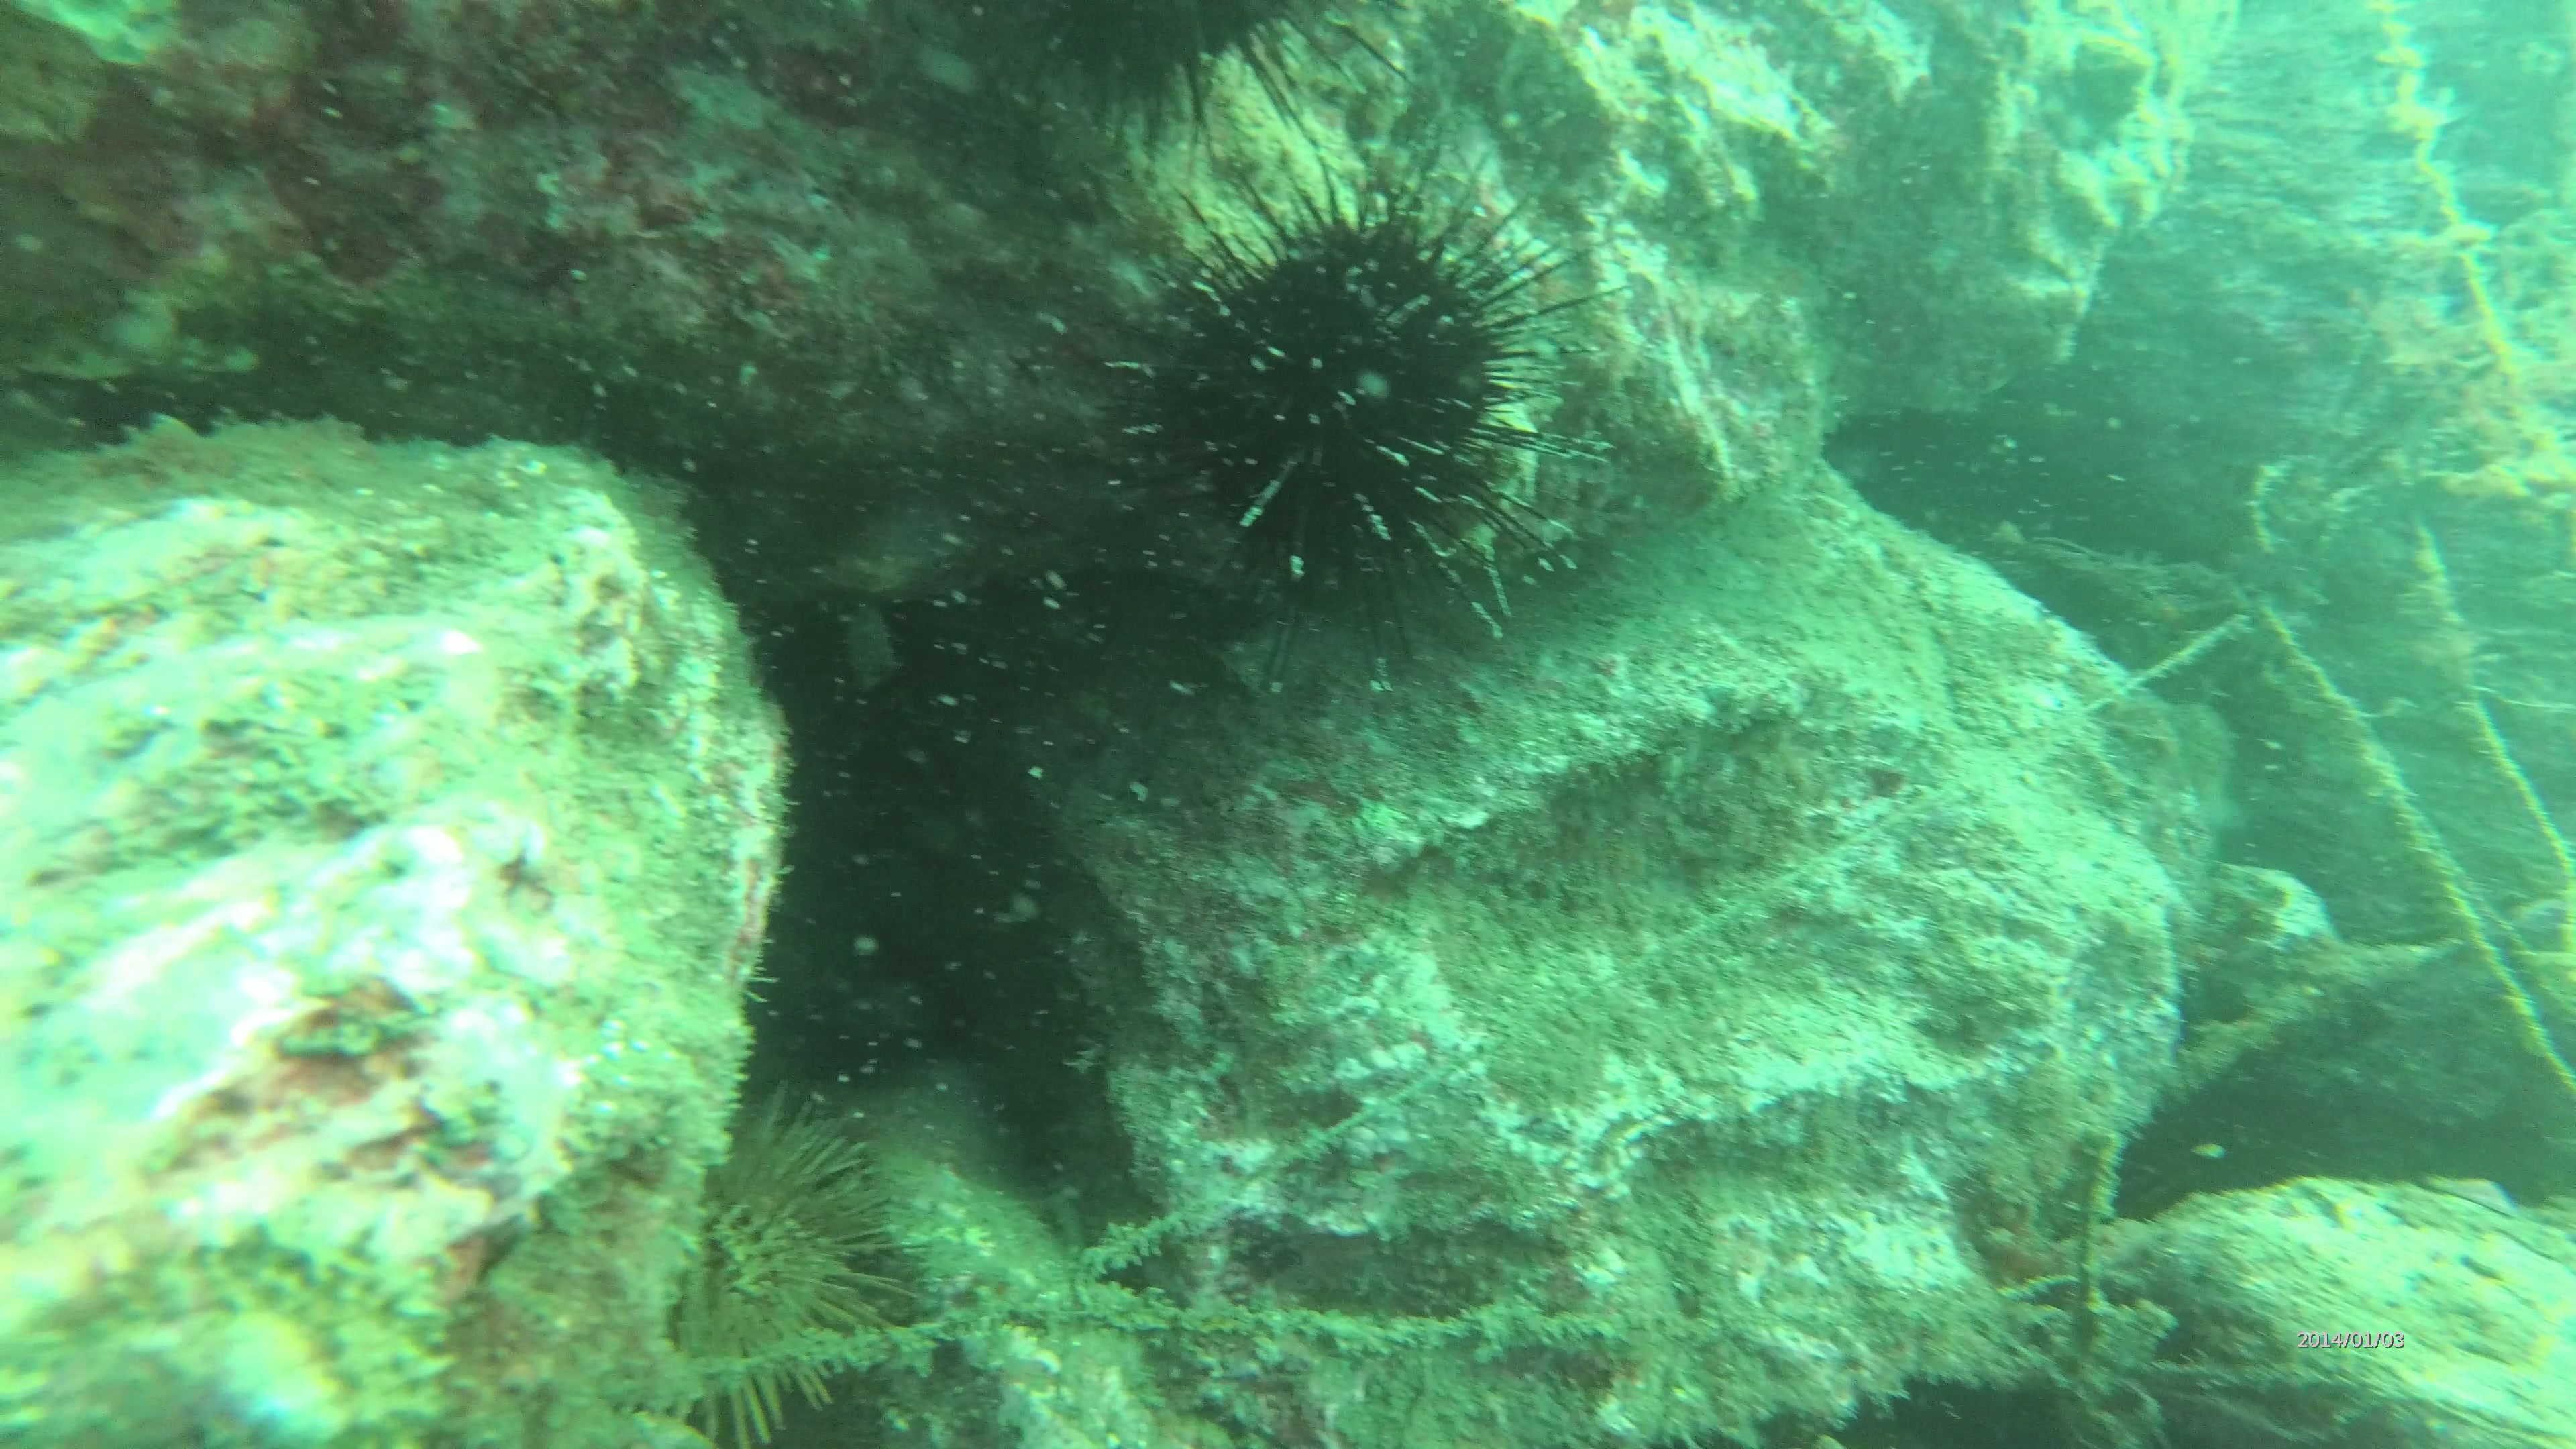echinus: (1127, 200, 1562, 621), (679, 1102, 890, 1415), (987, 0, 1345, 117)
